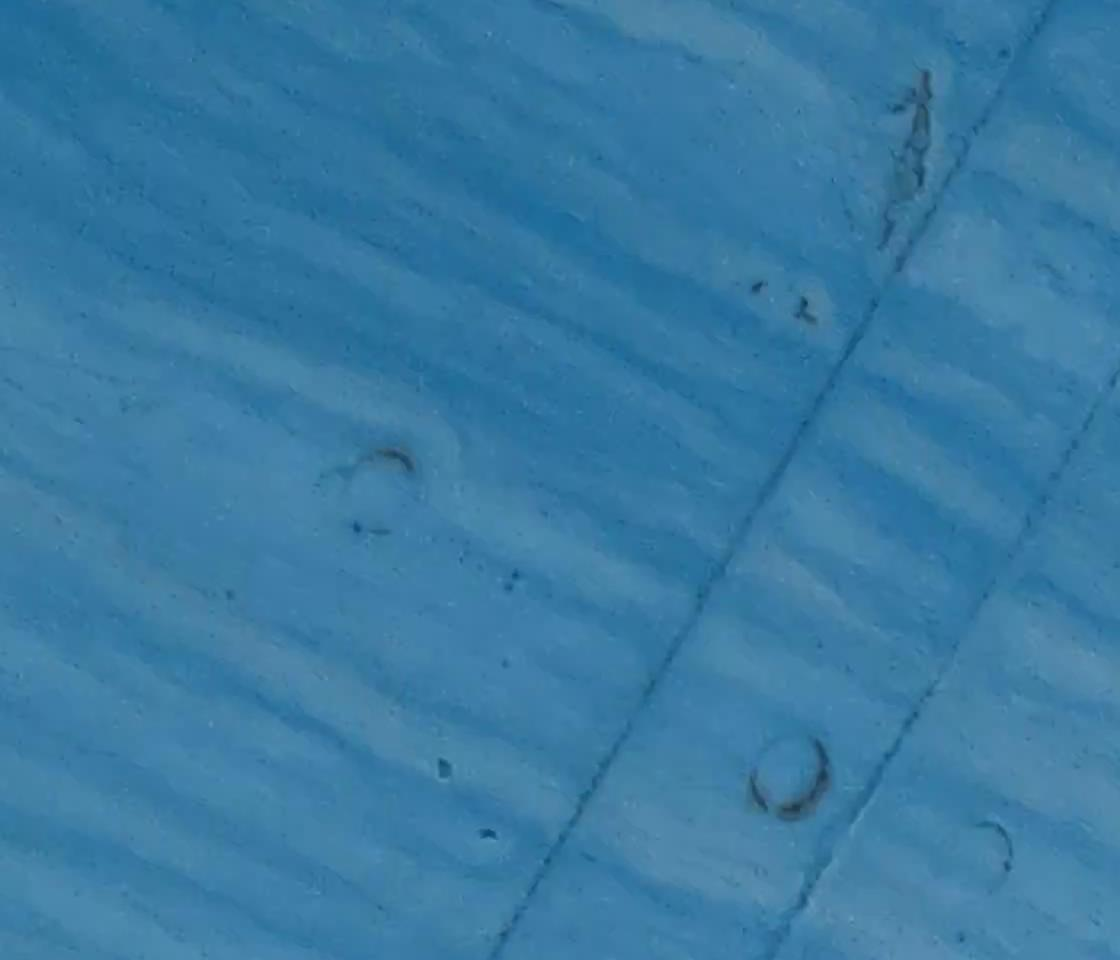scratch: (736, 764, 774, 826)
